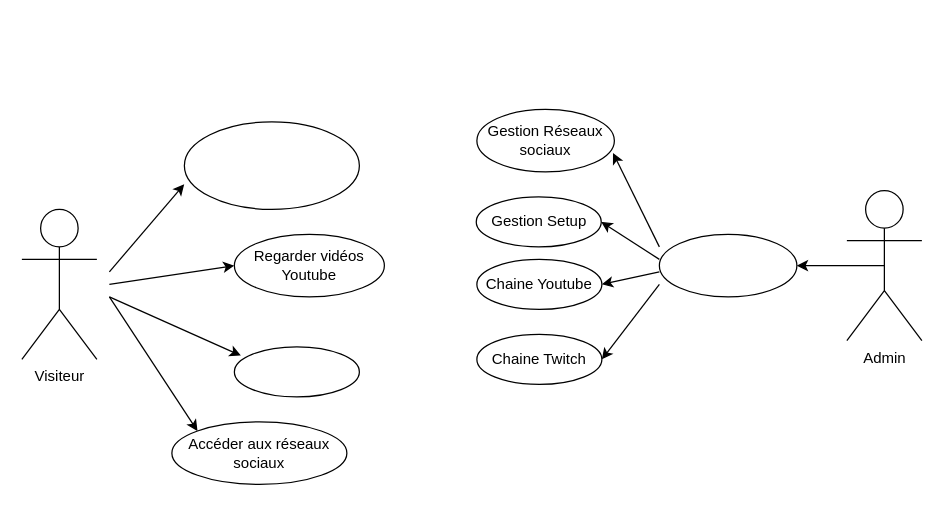
Some shapes in this 944 by 506 pixel diagram are drawn without their labels. Each missing label, with the centre of its shape:
"Authentification" belongs at point 727,265.
"Regarder descriptif du streamer (Page Home)" belongs at point 271,165.
"Regarder Stream" belongs at point 296,371.
